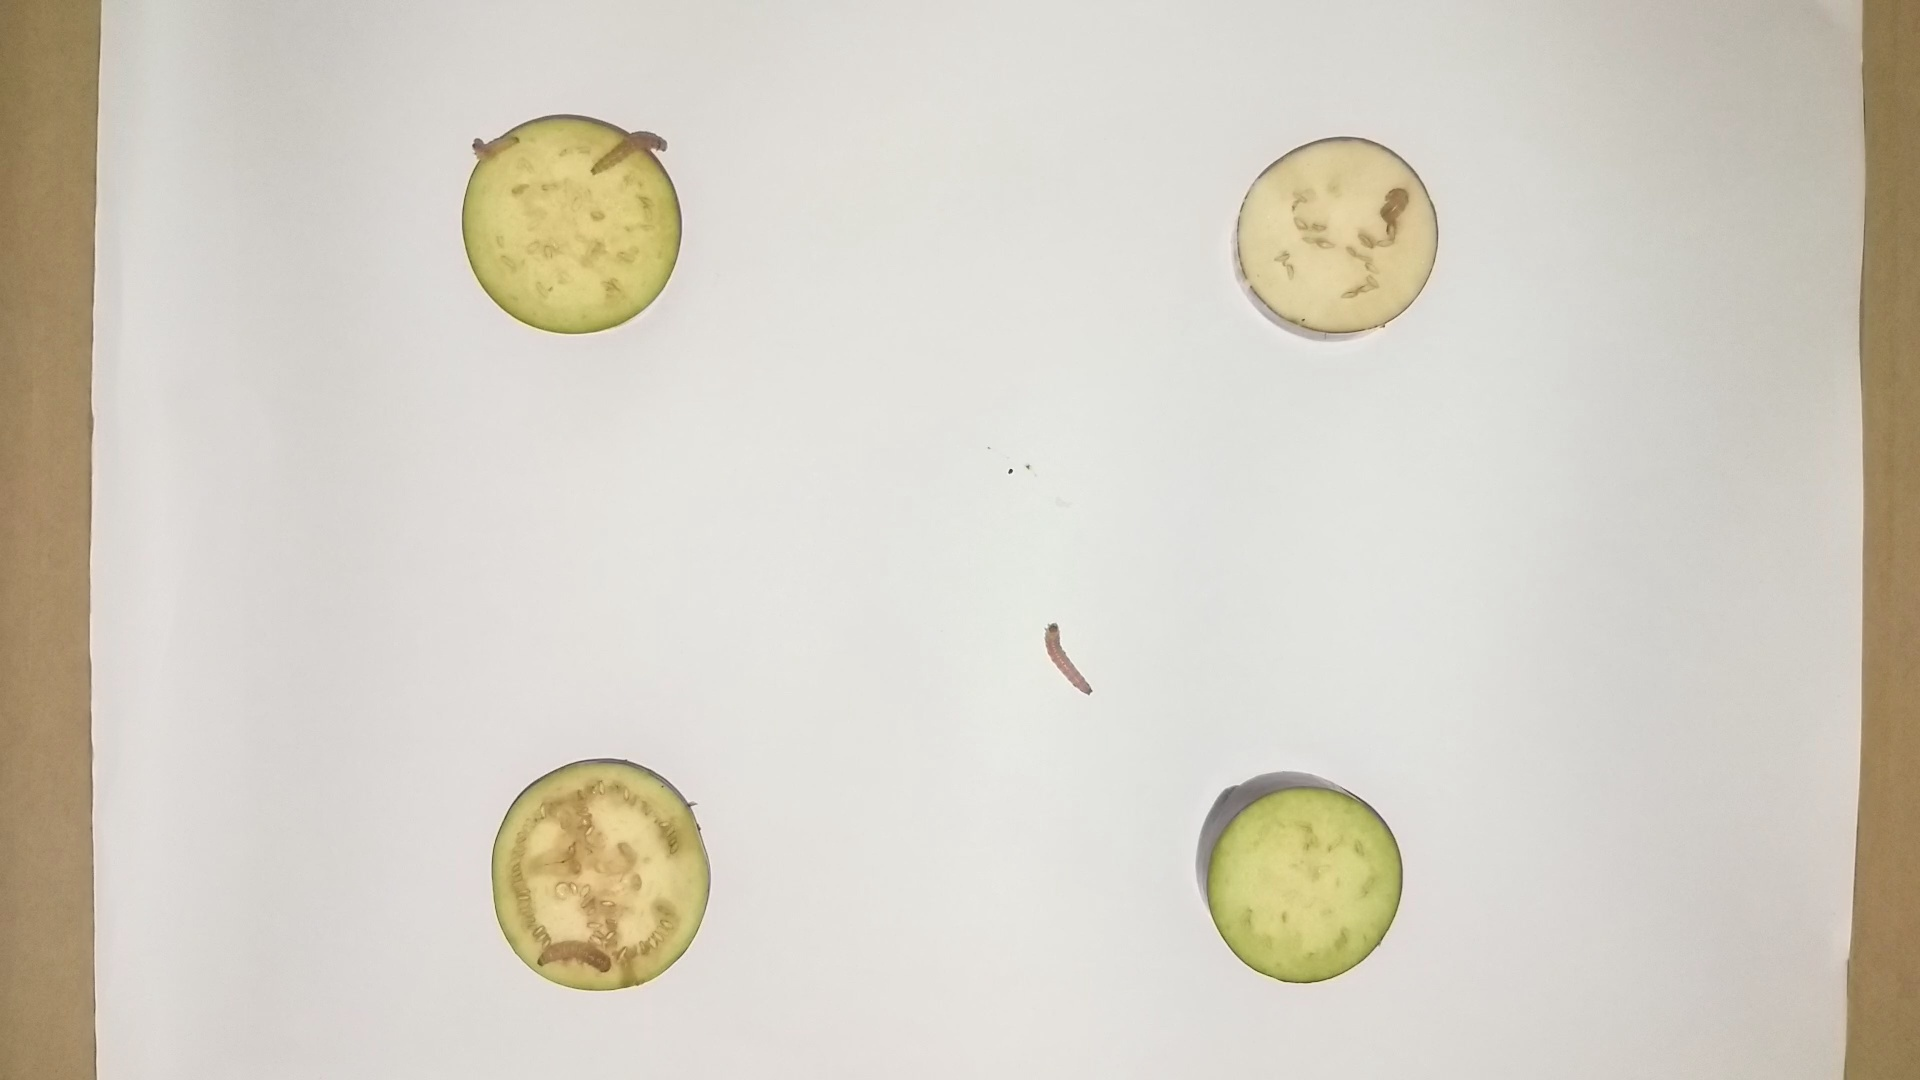efsb: (1040, 616, 1097, 702), (585, 127, 674, 175), (534, 940, 626, 977), (1371, 182, 1414, 229), (467, 129, 521, 165)
eggplant: (483, 752, 717, 1000), (458, 109, 687, 342), (1193, 760, 1406, 992), (1224, 127, 1444, 349)
